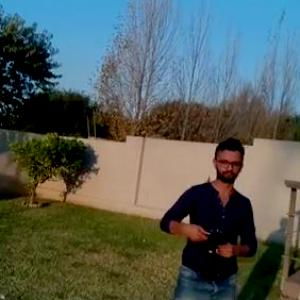follow: (154, 132, 262, 299)
